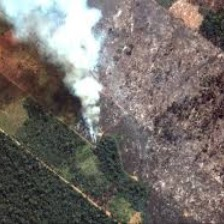incendio: (81, 28, 96, 147)
